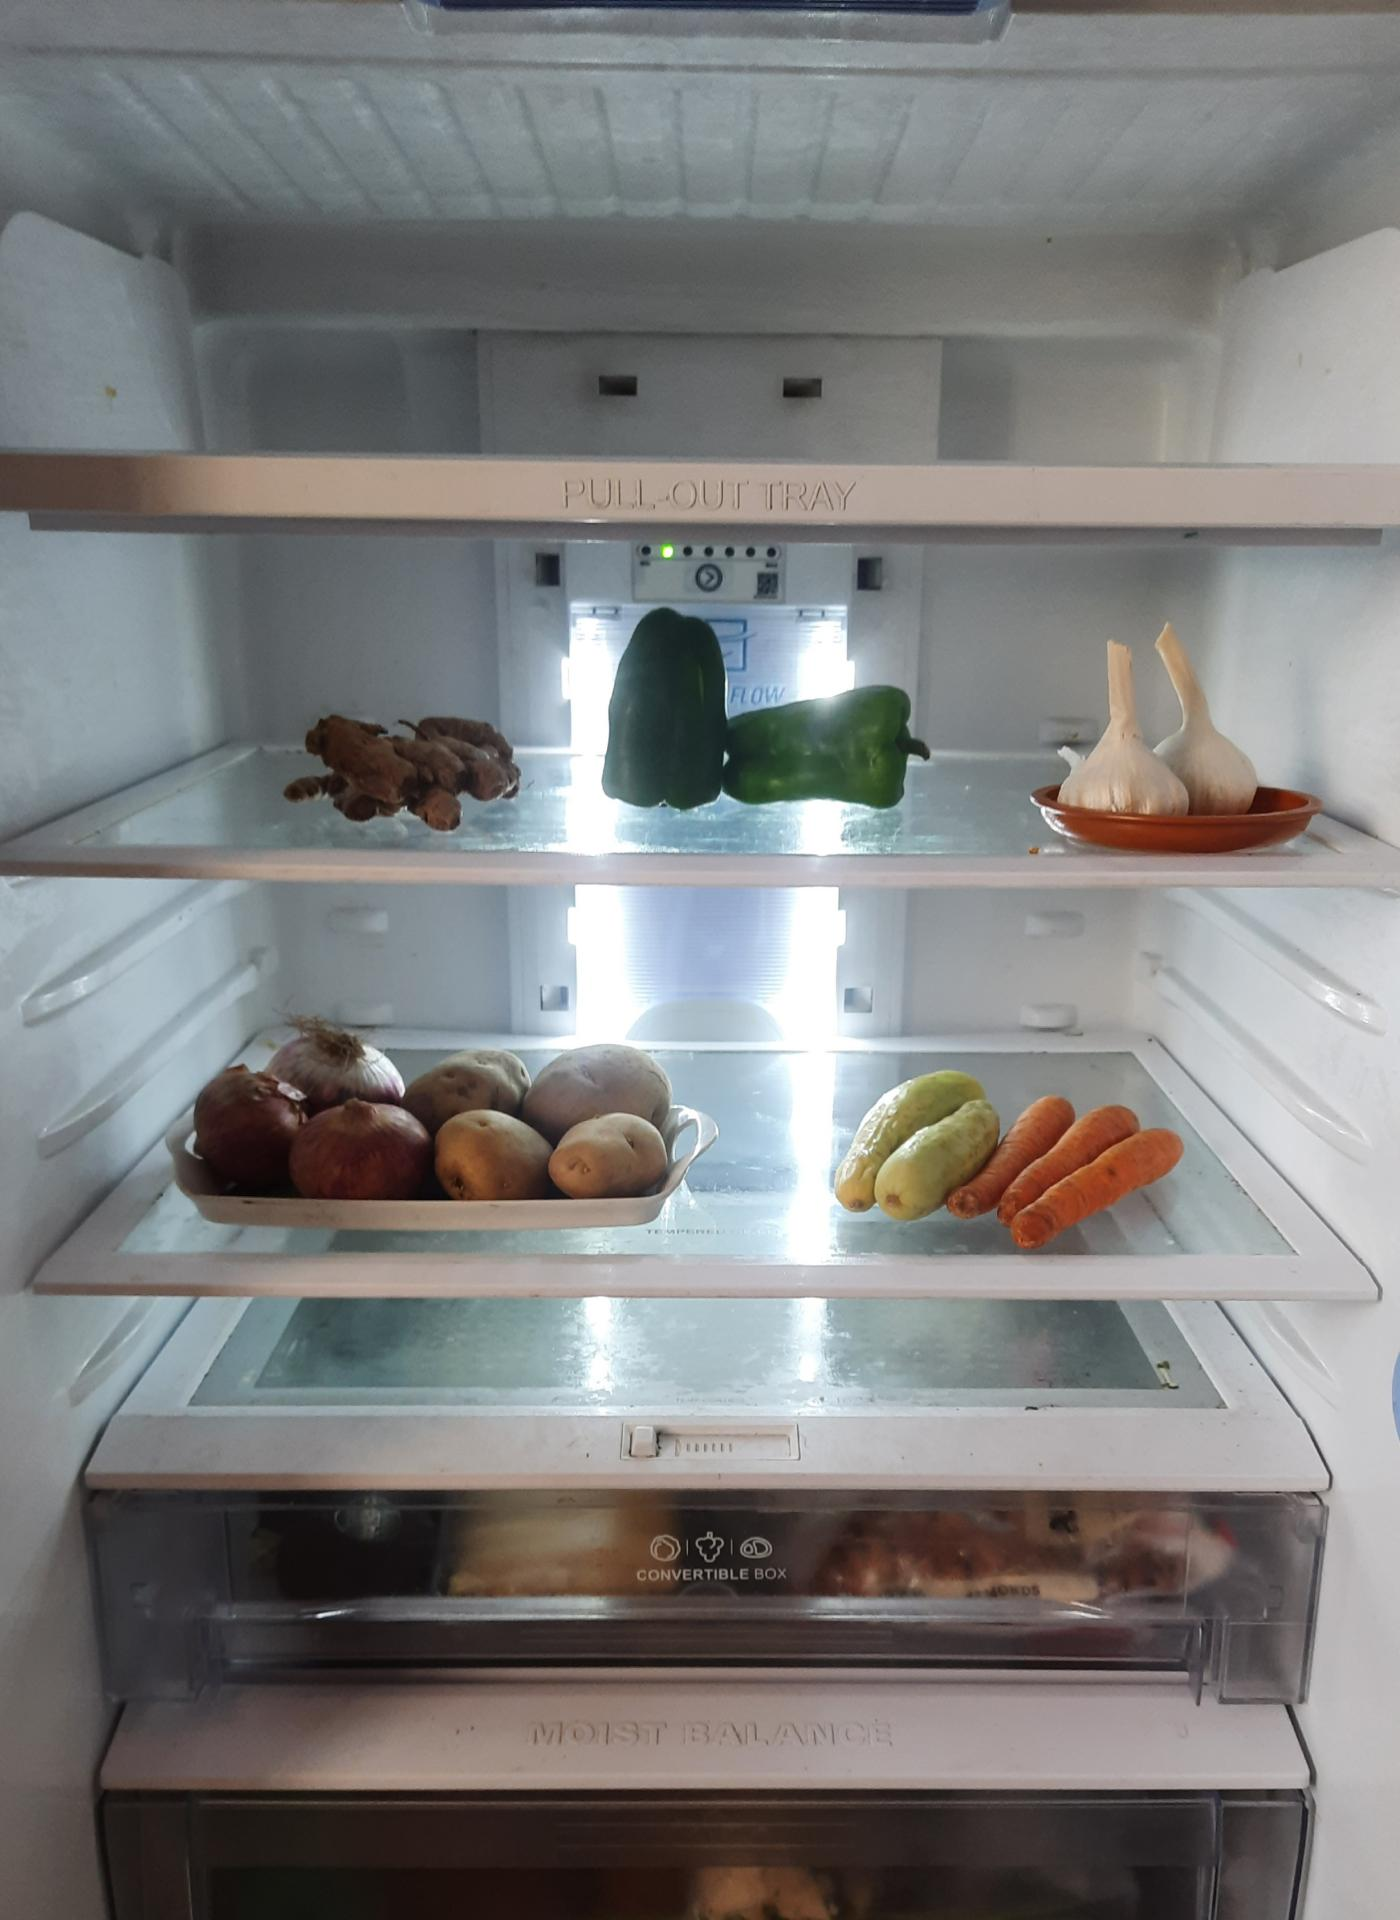capsicum: (602, 608, 929, 805)
carrots: (959, 1088, 1190, 1249)
cucumber: (842, 1067, 990, 1224)
garlic: (1047, 634, 1285, 824)
ginger: (321, 708, 528, 821)
onion: (195, 1024, 429, 1196)
potato: (409, 1042, 663, 1203)
